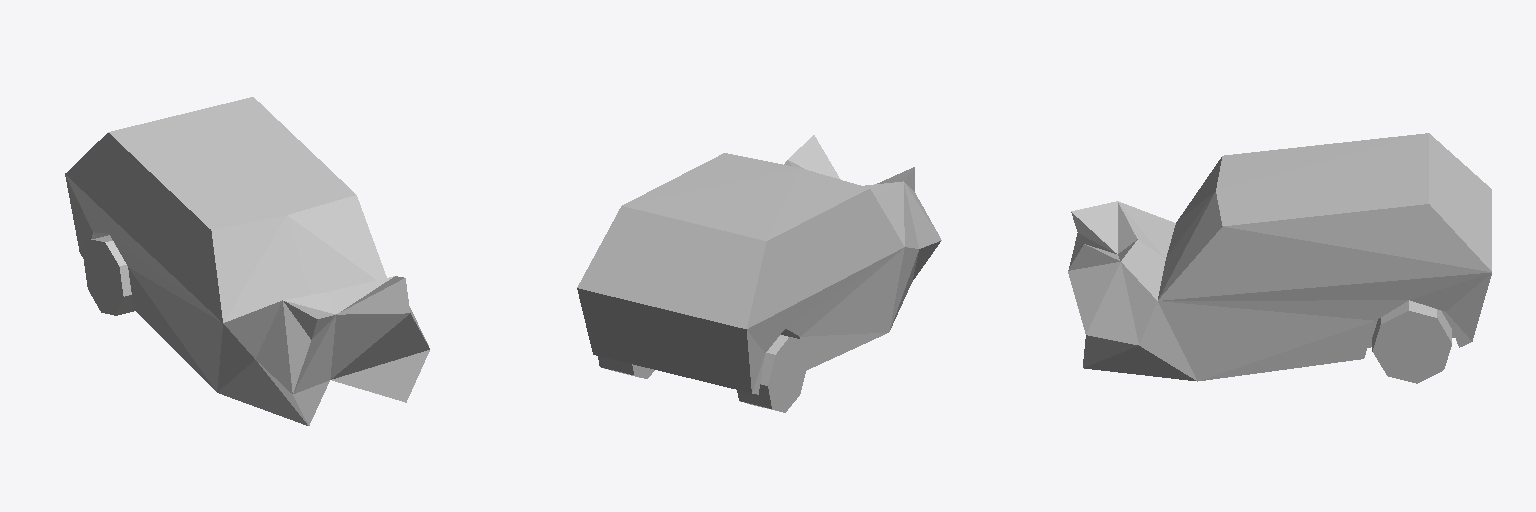
The model's file is car1.obj.
The picture shows the model from 3 angles: view 1: azimuth 30°, elevation 25°; view 2: azimuth 150°, elevation 25°; view 3: azimuth 270°, elevation 25°; orthographic projection.
Visible parts, largest first — view 1: Group; view 2: Group; view 3: Group.
Part boxes in pixels (bbox=[...]): Group: bbox=[65, 97, 429, 425]; Group: bbox=[577, 135, 941, 412]; Group: bbox=[1068, 133, 1491, 383].
Size of the model in its own units: 102 by 98.97 by 219.